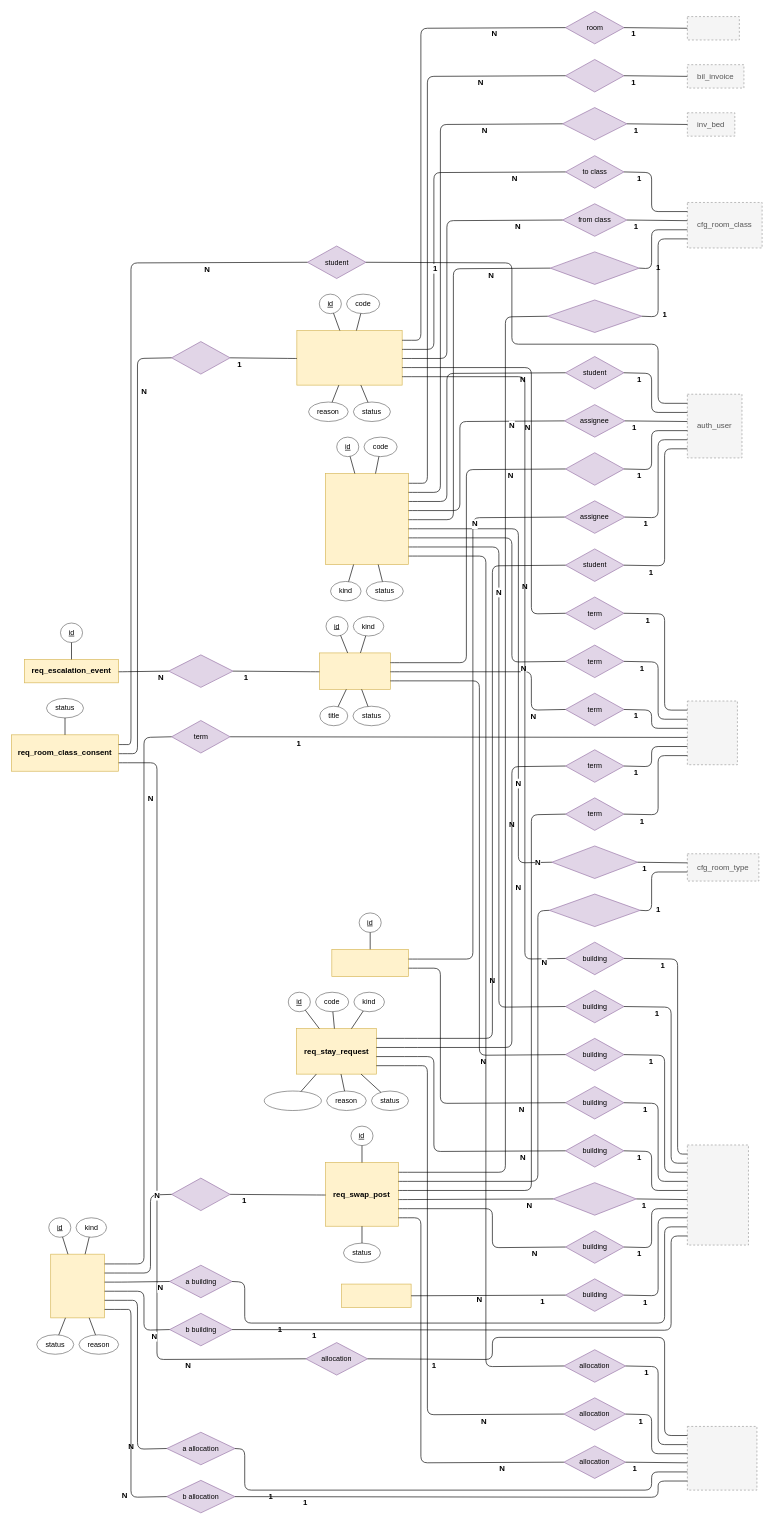
The diagram is 774 pixels wide and 1524 high, and some of its shapes have lost their labels. The shapes that lost their labels are listed below. From the top down, each one's centre as x and y in pixels, then its label:
the point at 713,28: inv_room
the point at 594,75: invoice
the point at 594,123: target bed
the point at 594,267: target room class
the point at 594,315: wanted room class
the point at 200,357: change
the point at 349,357: req_room_class_change
the point at 594,468: owner
the point at 367,519: req_room_change
the point at 200,670: escalation
the point at 354,670: req_escalation
the point at 712,732: cfg_term
the point at 594,861: target room type
the point at 594,910: wanted room type
the point at 370,963: req_routing_rule
the point at 292,1100: extra_terms
the point at 200,1194: post
the point at 594,1198: wanted building
the point at 717,1194: inv_building
the point at 77,1286: req_swap
the point at 376,1295: req_sla_policy
the point at 722,1458: asg_allocation
